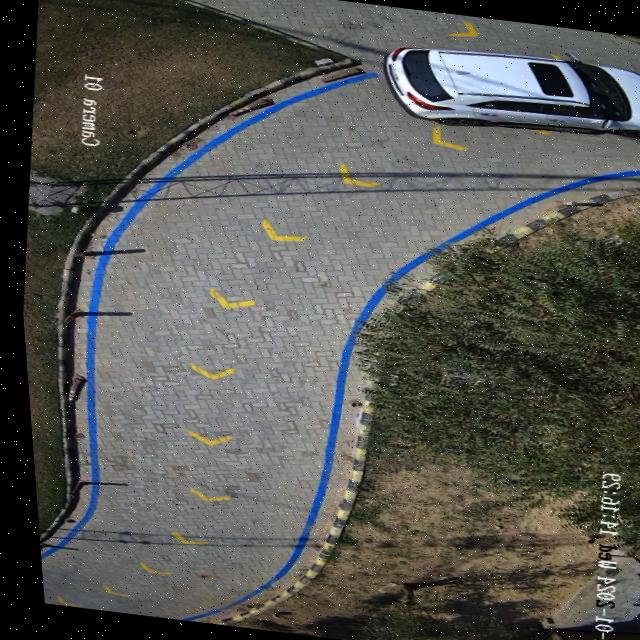car: (381, 46, 640, 132)
